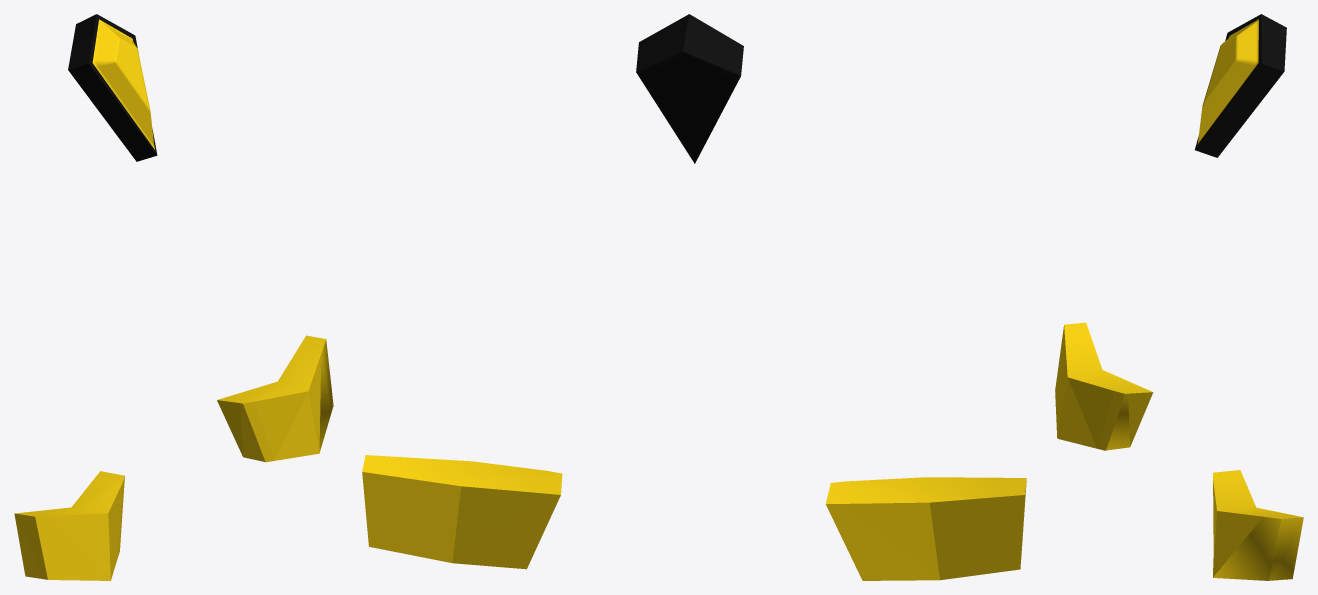
3 views of the same model, side by side, from view 1: azimuth 30°, elevation 25°; view 2: azimuth 150°, elevation 25°; view 3: azimuth 270°, elevation 25° (orthographic). The views are drawn at different scales.
Parts seen in each view (by area): view 1: eye_decor, face_decor_002.002; view 2: eye_decor, face_decor_002.002; view 3: eye_decor, face_decor_002.002.
Boxes of the visible parts, left/top/right/bottom form: eye_decor: left=14, top=335, right=333, bottom=580; face_decor_002.002: left=68, top=14, right=157, bottom=161; eye_decor: left=362, top=455, right=1026, bottom=580; face_decor_002.002: left=636, top=14, right=743, bottom=163; eye_decor: left=1055, top=322, right=1303, bottom=580; face_decor_002.002: left=1195, top=14, right=1286, bottom=157.
Size of the model in its own units: 54.36 by 28.67 by 59.74.
